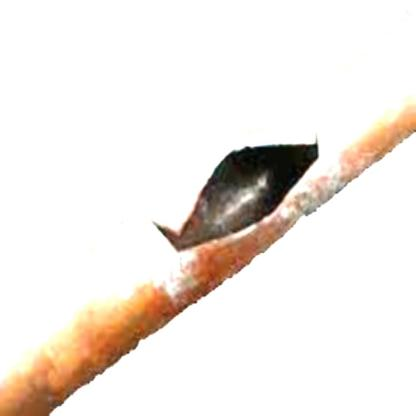burst: (146, 129, 330, 267)
